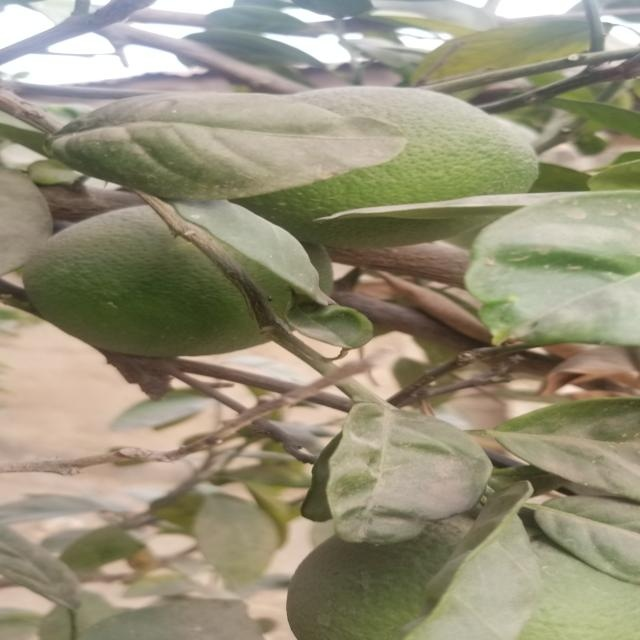agrume: (225, 86, 519, 244), (26, 195, 294, 356)
